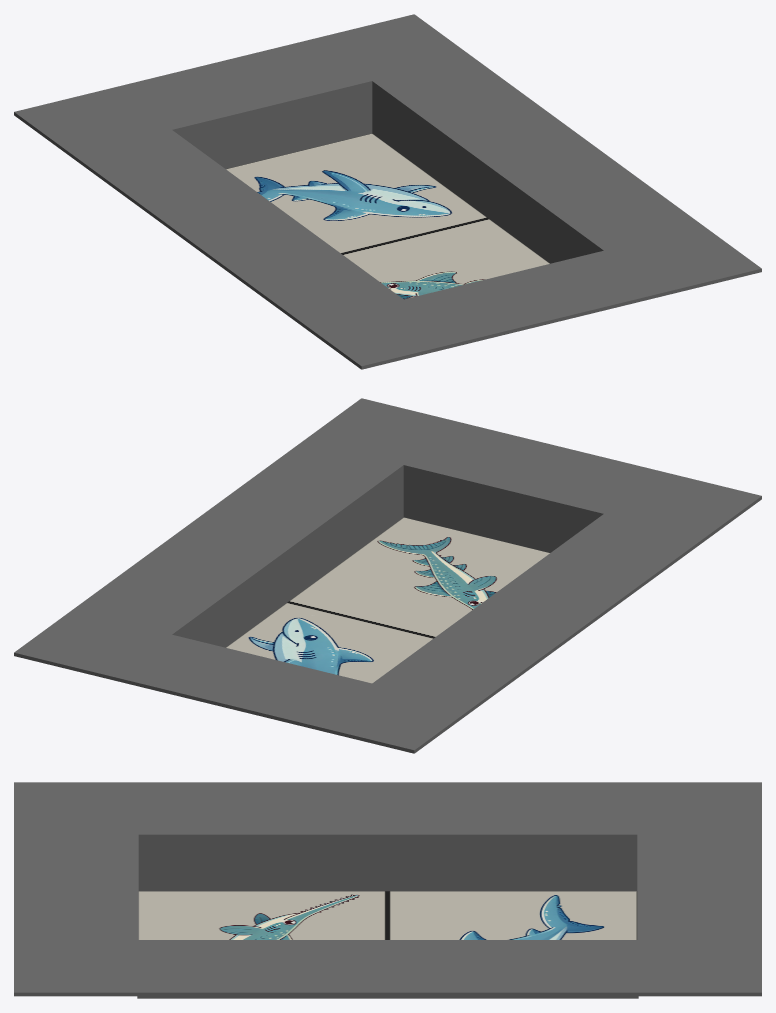
The model's file is bruvbin.dae.
3 renders of one model, top to bottom at view 1: azimuth 30°, elevation 25°; view 2: azimuth 150°, elevation 25°; view 3: azimuth 270°, elevation 25°, orthographic. The views are drawn at different scales.
Visible parts, largest first — view 1: Plane; view 2: Plane; view 3: Plane.
Part boxes in pixels (x1,y1,x2,y2): Plane: [14, 14, 761, 369]; Plane: [14, 398, 761, 753]; Plane: [14, 782, 761, 998].
Size of the model in its own units: 0.6082 by 0.9144 by 0.0789.
Materials: 2 (1 with a texture image).
